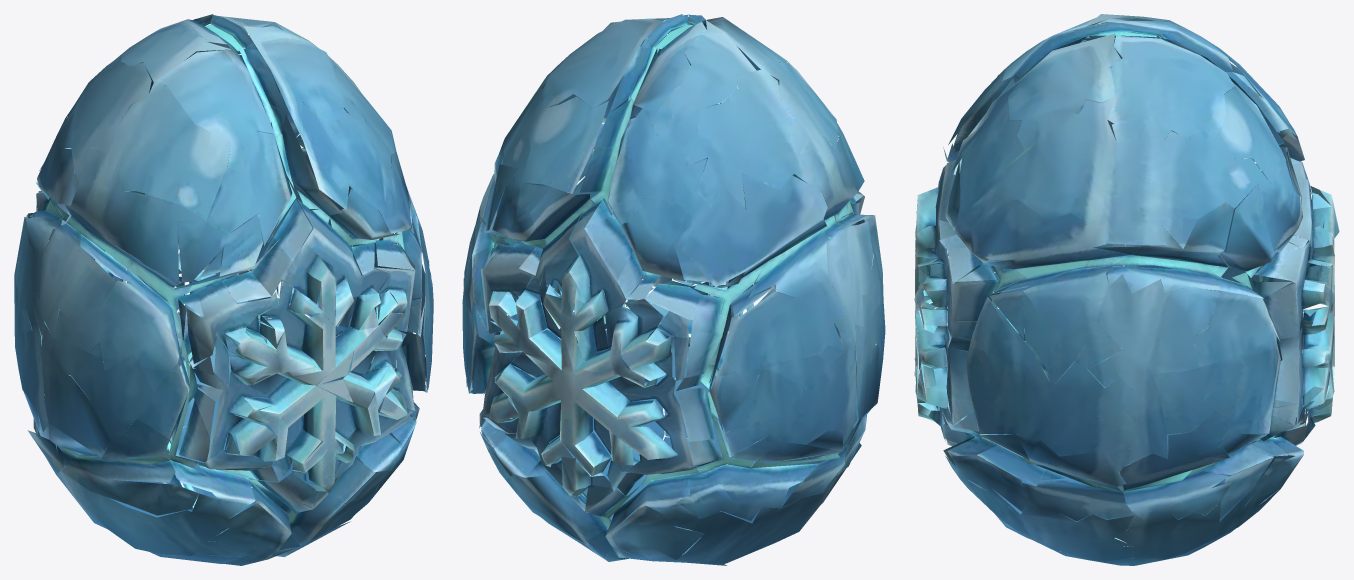
Rendered from frost.glb.
3 renders of one model, left to right at view 1: azimuth 30°, elevation 25°; view 2: azimuth 150°, elevation 25°; view 3: azimuth 270°, elevation 25°, orthographic.
Parts seen in each view (by area): view 1: Cap, Cup; view 2: Cap, Cup; view 3: Cap, Cup.
Boxes of the visible parts, <box> form: Cap: <box>14,14,432,378</box>; Cup: <box>14,203,433,565</box>; Cap: <box>463,14,883,380</box>; Cup: <box>462,200,885,565</box>; Cap: <box>915,14,1339,374</box>; Cup: <box>914,211,1334,565</box>.
Size of the model in its own units: 0.7363 by 1.01 by 0.745.
Materials: 1 (1 with a texture image).
